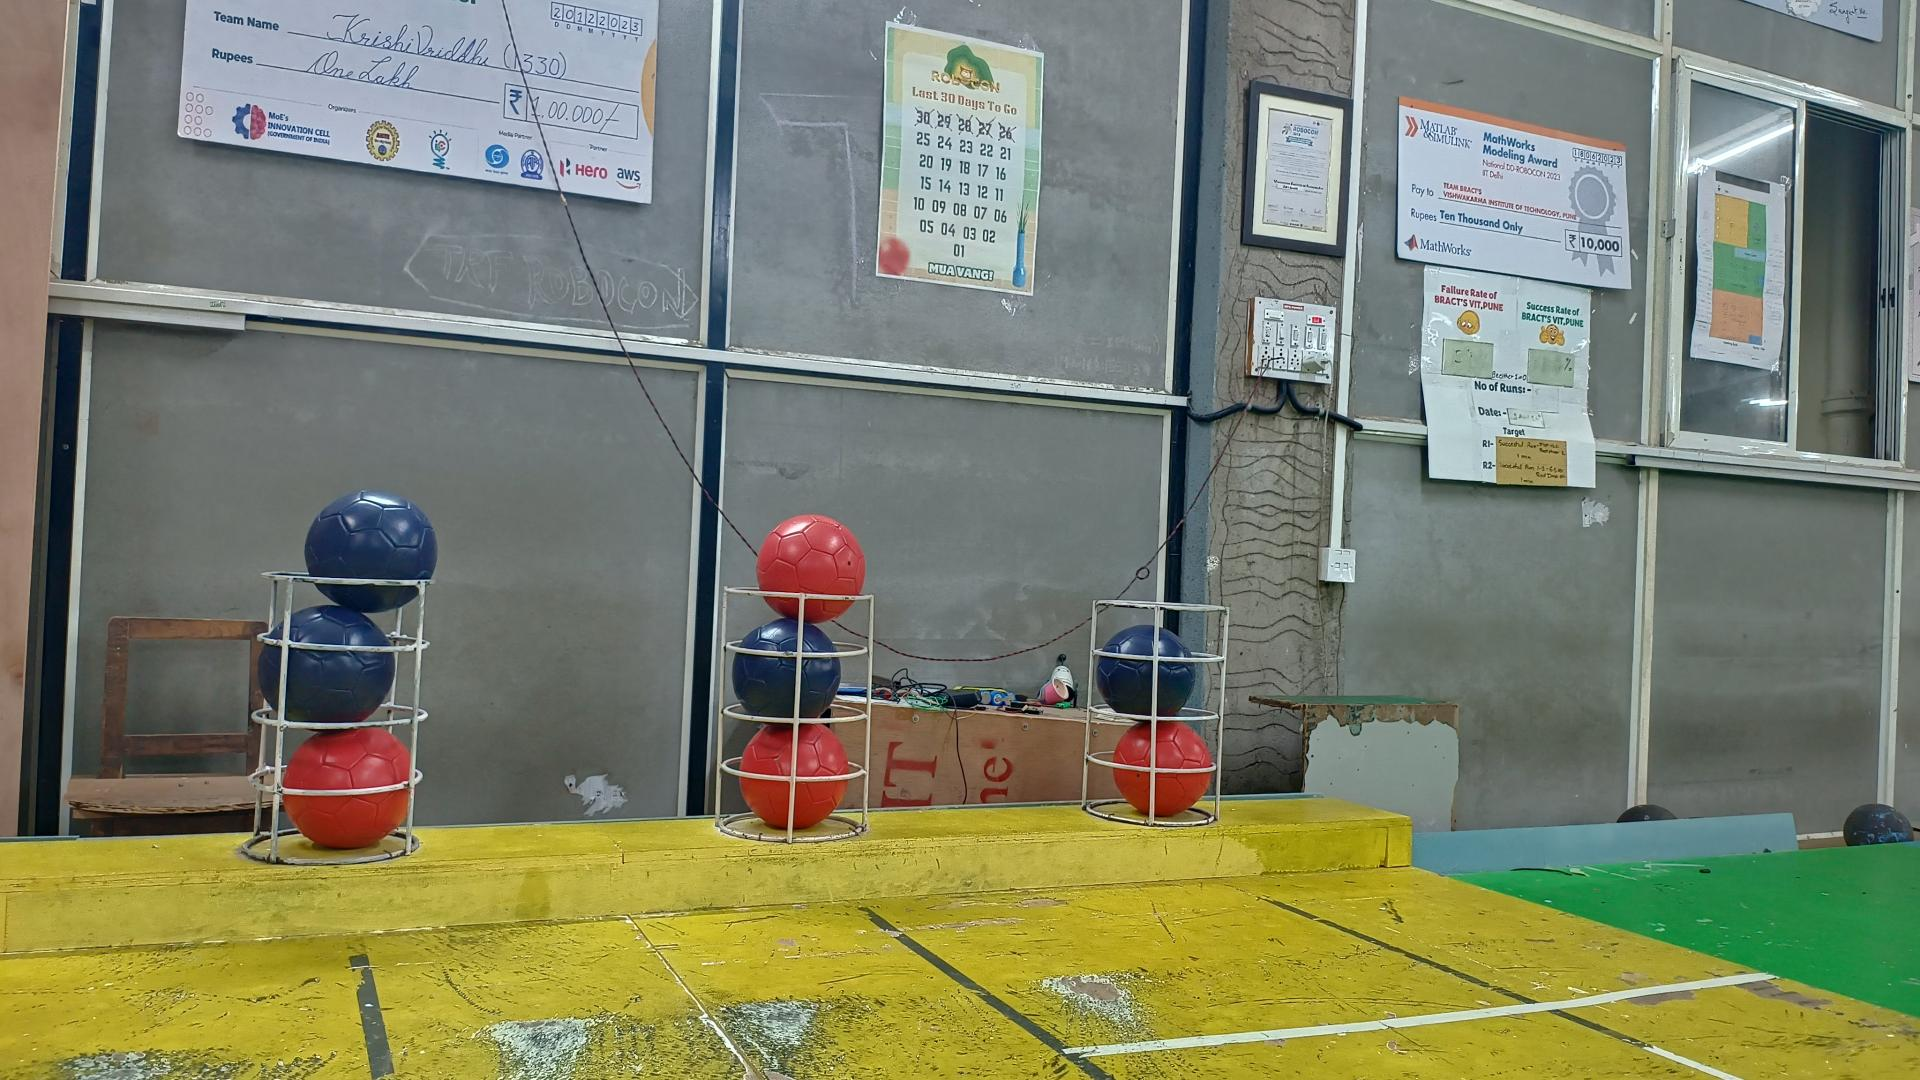dhoka: (255, 604, 394, 724), (303, 492, 439, 615), (732, 618, 840, 720), (1095, 622, 1196, 716)
laale: (281, 728, 413, 848), (757, 514, 866, 622), (738, 724, 852, 828), (1114, 720, 1215, 818)
